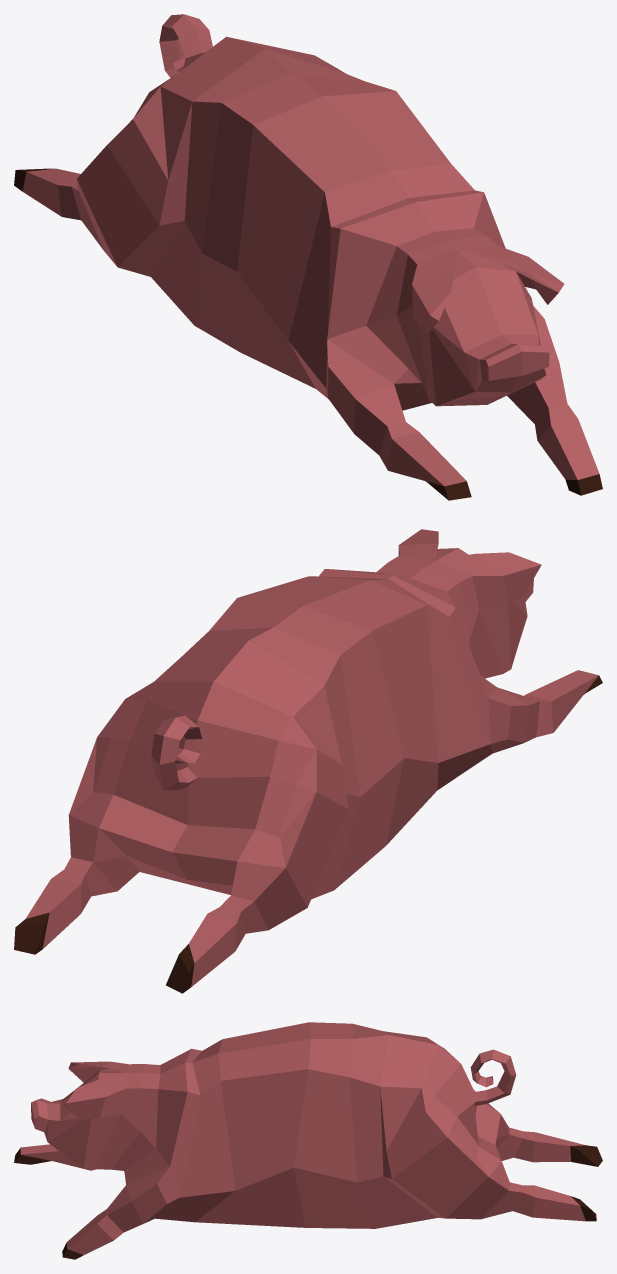
The model's file is Pig_000017.obj.
3 renders of one model, top to bottom at view 1: azimuth 30°, elevation 25°; view 2: azimuth 150°, elevation 25°; view 3: azimuth 270°, elevation 25°, orthographic. The views are drawn at different scales.
Parts seen in each view (by area): view 1: Pig_Cylinder; view 2: Pig_Cylinder; view 3: Pig_Cylinder.
Boxes of the visible parts, left/top/right/bottom form: Pig_Cylinder: left=14, top=14, right=602, bottom=500; Pig_Cylinder: left=14, top=529, right=602, bottom=993; Pig_Cylinder: left=14, top=1022, right=602, bottom=1259.
Bounding box in the file's own units: 3.3 × 3.97 × 10.95.
